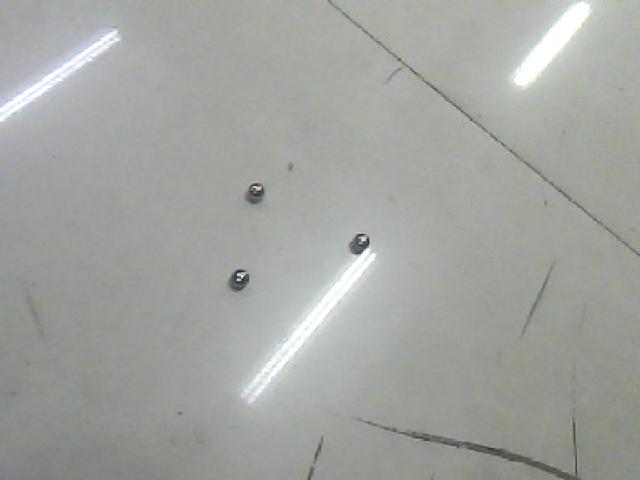steel-ball: (206, 263, 274, 297), (238, 166, 284, 206), (342, 218, 392, 254)
